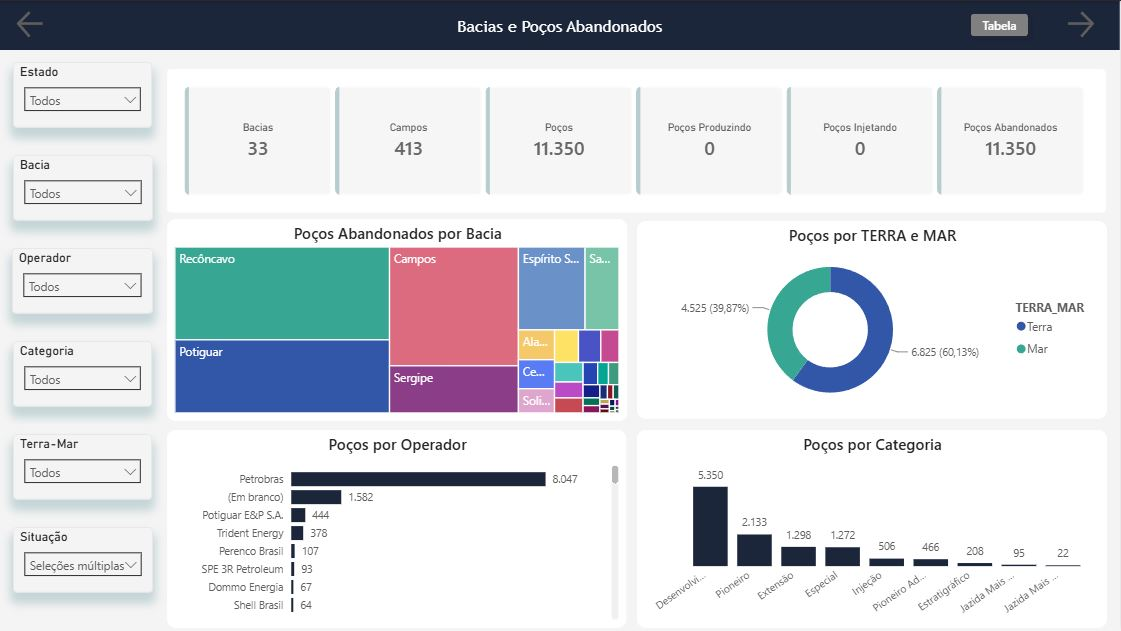

The page's visual inventory and layout, read from the dashboard file:
{"tool":"powerbi","page":{"name":"Poços Abandonados","canvas":[1280,720],"ordinal":3},"visuals":[{"type":"slicer","title":"Categoria","fields":{"Values":["fato_pocos.CATEGORIA"]},"box":[14.6,388.4,159.5,75.2],"z":0},{"type":"slicer","title":"Estado","fields":{"Values":["fato_pocos.ESTADO"]},"box":[14.6,69.5,159.5,75.2],"z":1000},{"type":"slicer","title":"Terra-Mar","fields":{"Values":["fato_pocos.TERRA_MAR"]},"box":[14.6,494.8,159.5,75.2],"z":2000},{"type":"cardVisual","fields":{"Data":["Medidas.Contagem Bacias","Medidas.Total Campos","Medidas.Contagem Pocos","Medidas.Poços Produzindo","Medidas.Poços Injetando","Medidas.Poços Abandonados"]},"box":[191.4,77.5,1073.2,164.1],"z":3000},{"type":"clusteredBarChart","title":"Poços por Operador","fields":{"Category":["fato_pocos.OPERADOR"],"Y":["Medidas.Total Poços"]},"box":[191.4,489.9,525.2,225.6],"z":4000},{"type":"clusteredColumnChart","title":"Poços por Categoria","fields":{"Category":["fato_pocos.CATEGORIA"],"Y":["Medidas.Total Poços"]},"box":[728,489.9,536.6,225.6],"z":5000},{"type":"slicer","title":"Operador","fields":{"Values":["fato_pocos.OPERADOR"]},"box":[14,282,160.6,75.2],"z":6000},{"type":"slicer","title":"Situação","fields":{"Values":["fato_pocos.SITUACAO"]},"box":[14.3,601.2,160,75],"z":7000},{"type":"slicer","title":"Bacia","fields":{"Values":["fato_pocos.BACIA"]},"box":[14.3,175.9,160,75],"z":8000},{"type":"shape","box":[0,0,1279.7,56.4],"z":9000},{"type":"actionButton","box":[1100.3,6,83.2,43.4],"z":10000},{"type":"actionButton","box":[14.5,7.2,56.7,39.8],"z":11000},{"type":"actionButton","box":[1214.9,7.2,49.5,39.8],"z":12000},{"type":"treemap","title":"Poços Abandonados por Bacia","fields":{"Group":["fato_pocos.BACIA"],"Values":["medidas.Poços Abandonados"]},"box":[191.2,249.6,525.5,230.7],"z":13000},{"type":"donutChart","title":"Poços por TERRA e MAR","fields":{"Category":["fato_pocos.TERRA_MAR"],"Y":["Medidas.Total Poços"]},"box":[728,251.8,536.6,225.6],"z":14000}]}

Visuals, with their boxes in screenshot pixels (x1, y1, x2, y2), scaled from the page's 1280x720 canvas onto the 1121x631 screenshot:
"Categoria" slicer: 13,340,152,406
"Estado" slicer: 13,61,152,127
"Terra-Mar" slicer: 13,434,152,500
cardVisual - Medidas.Contagem Bacias x Medidas.Total Campos: 168,68,1108,212
"Poços por Operador" clusteredBarChart: 168,429,628,627
"Poços por Categoria" clusteredColumnChart: 638,429,1108,627
"Operador" slicer: 12,247,153,313
"Situação" slicer: 13,527,153,593
"Bacia" slicer: 13,154,153,220
shape: 0,0,1120,49
actionButton: 964,5,1036,43
actionButton: 13,6,62,41
actionButton: 1064,6,1107,41
"Poços Abandonados por Bacia" treemap: 167,219,628,421
"Poços por TERRA e MAR" donutChart: 638,221,1108,418
